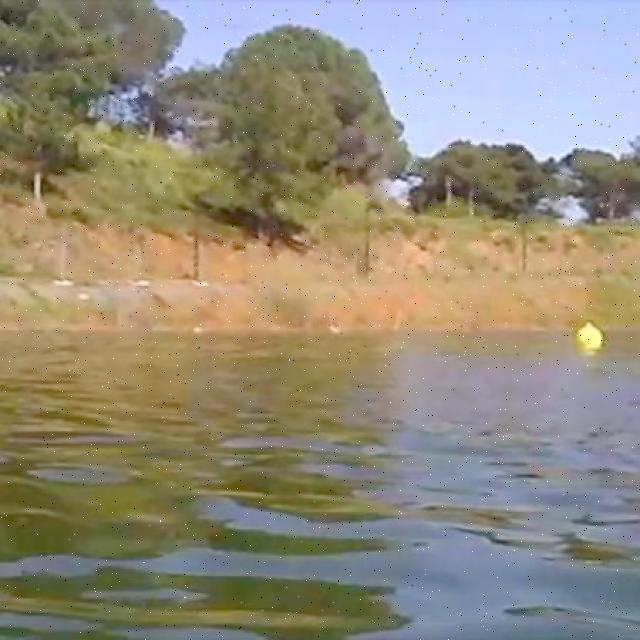buoy: (576, 324, 603, 352)
